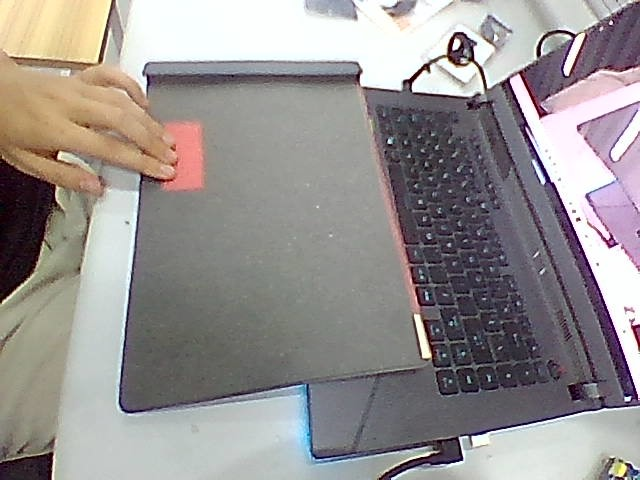card: (162, 122, 203, 191)
